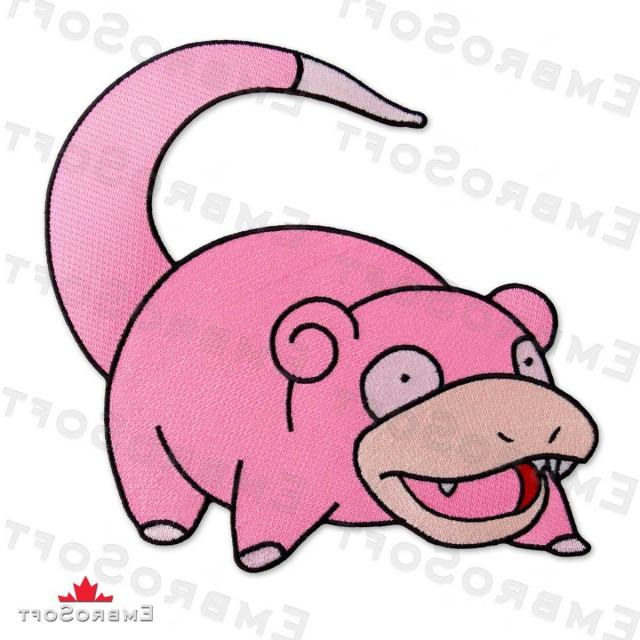Slowpoke: (72, 200, 608, 570)
